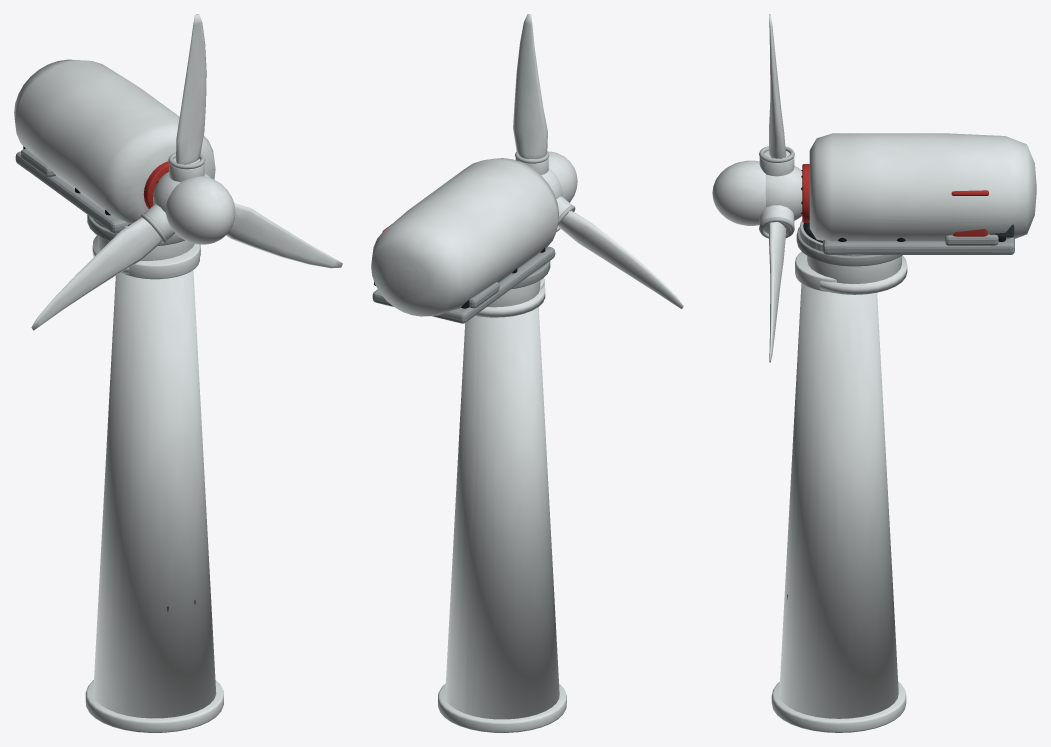
File: C_dismantlable_turbine_low_quantized.glb
The picture shows the model from 3 angles, left to right: view 1: azimuth 30°, elevation 25°; view 2: azimuth 150°, elevation 25°; view 3: azimuth 270°, elevation 25°; orthographic projection. The views are drawn at different scales.
Parts seen in each view (by area): view 1: PART__TOWER, PART__NACELLE_SHELL, PART__SPINNER, PART__BLADE_C, PART__BLADE_A, PART__BLADE_B, PART__BEDPLATE, PART__HUB, PART__YAW_BASE; view 2: PART__TOWER, PART__NACELLE_SHELL, PART__BLADE_A, PART__BLADE_C, PART__BEDPLATE, PART__YAW_BASE, PART__HUB, PART__SPINNER; view 3: PART__TOWER, PART__NACELLE_SHELL, PART__YAW_BASE, PART__BEDPLATE, PART__HUB, PART__SPINNER, PART__BLADE_B, PART__BLADE_A, PART__BRAKE_UNIT.
Boxes of the visible parts, x1,y1,x2,y2 form: PART__TOWER: (85, 244, 223, 732); PART__NACELLE_SHELL: (14, 59, 215, 224); PART__SPINNER: (163, 176, 235, 244); PART__BLADE_C: (31, 217, 161, 330); PART__BLADE_A: (176, 14, 206, 164); PART__BLADE_B: (226, 203, 342, 268); PART__BEDPLATE: (15, 146, 129, 233); PART__HUB: (140, 152, 210, 243); PART__YAW_BASE: (87, 215, 200, 274); PART__TOWER: (438, 278, 566, 732); PART__NACELLE_SHELL: (371, 158, 558, 316); PART__BLADE_A: (513, 14, 547, 158); PART__BLADE_C: (558, 210, 683, 308); PART__BEDPLATE: (372, 246, 555, 323); PART__YAW_BASE: (475, 261, 550, 317); PART__HUB: (515, 151, 575, 231); PART__SPINNER: (548, 151, 577, 202); PART__TOWER: (771, 251, 906, 732); PART__NACELLE_SHELL: (809, 133, 1036, 241); PART__YAW_BASE: (796, 227, 907, 294); PART__BEDPLATE: (822, 234, 1014, 254); PART__HUB: (759, 146, 802, 238); PART__SPINNER: (712, 160, 768, 225); PART__BLADE_B: (769, 222, 786, 362); PART__BLADE_A: (769, 14, 786, 158); PART__BRAKE_UNIT: (951, 190, 1014, 237).
Size of the model in its own units: 4.05 by 8.87 by 3.76.
1 material, 1 textured.
